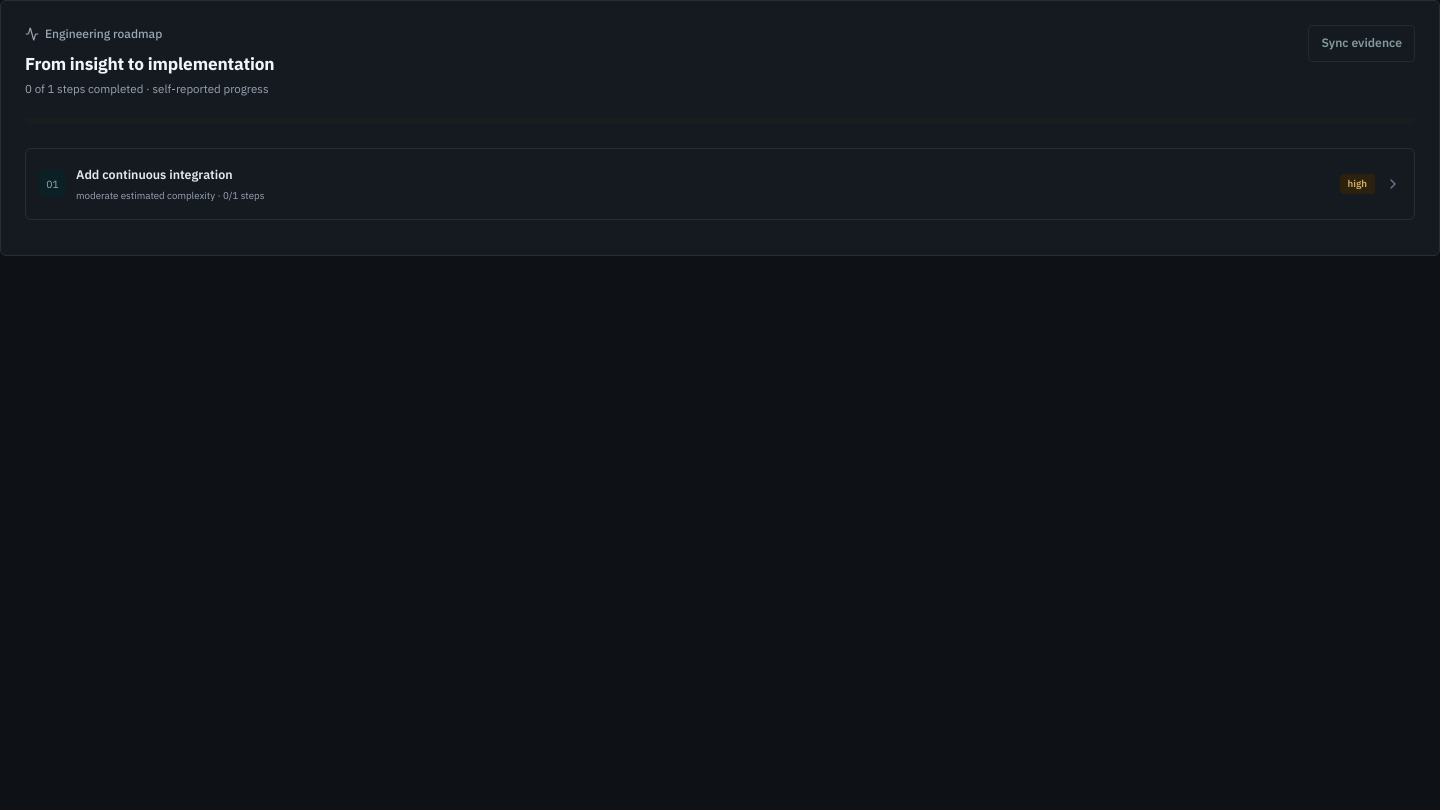
Test case: Engineering interactions › loads saved progress and persists a checklist update through the API
Click the text "Add continuous integration" at (154, 174), box [76,166,232,182]
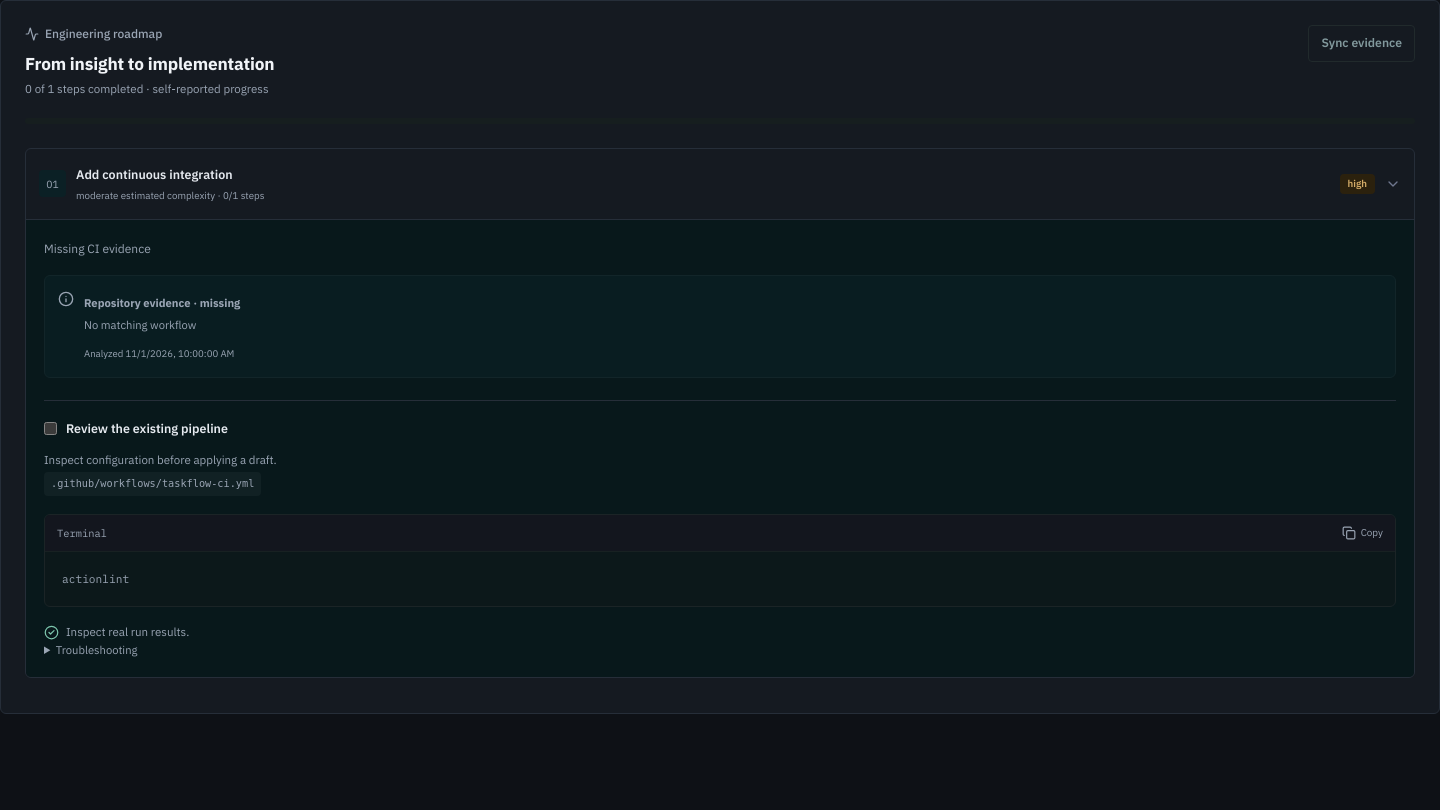
Click the checkbox labelled "Review the existing pipeline" at (50, 429), box [44,422,57,435]
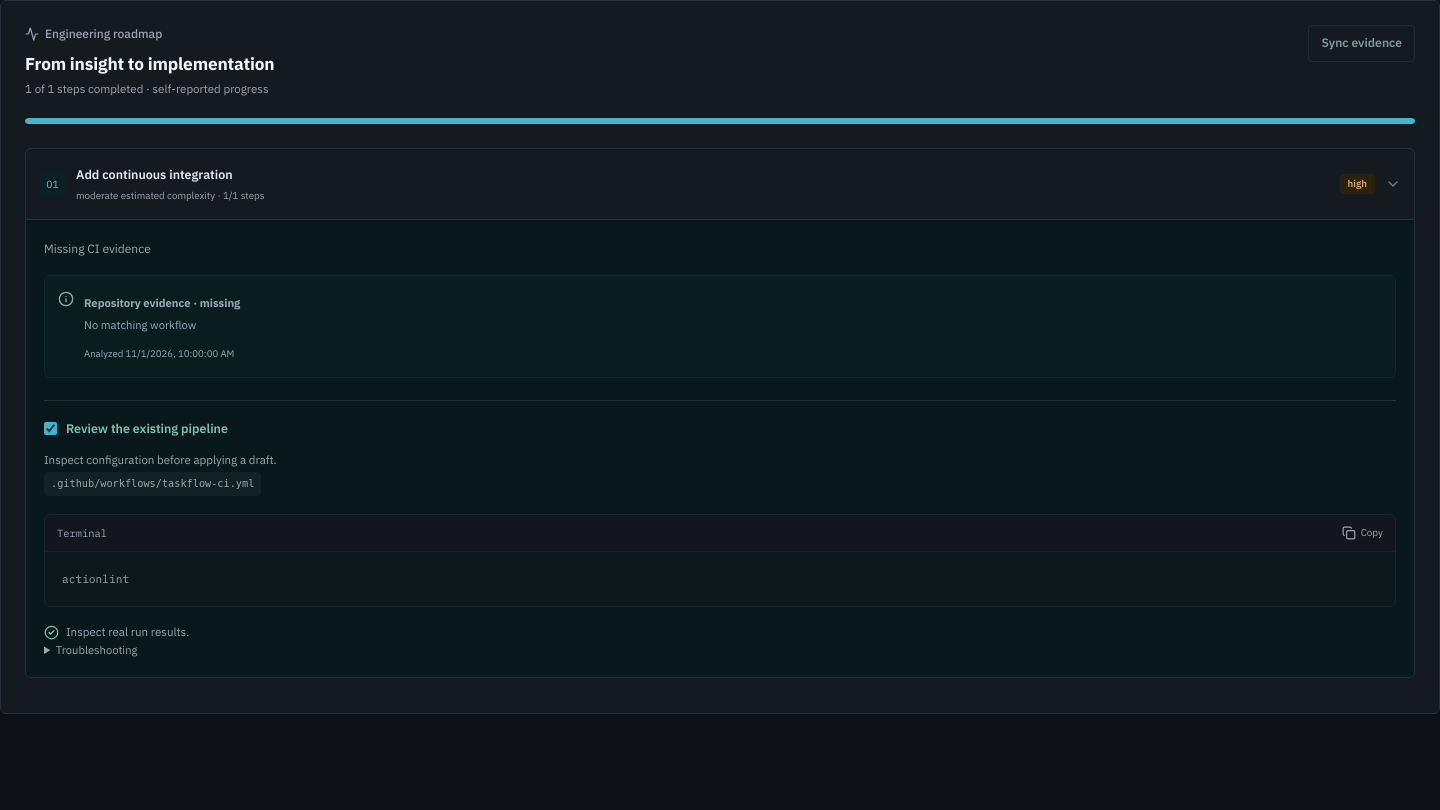
Check: the checkbox labelled "Review the existing pipeline" is checked, box [44,422,57,435]
